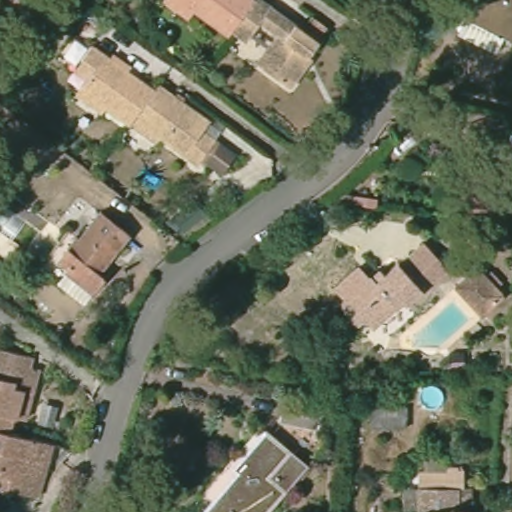pool: (406, 300, 472, 352), (418, 384, 447, 415), (135, 170, 166, 189)
